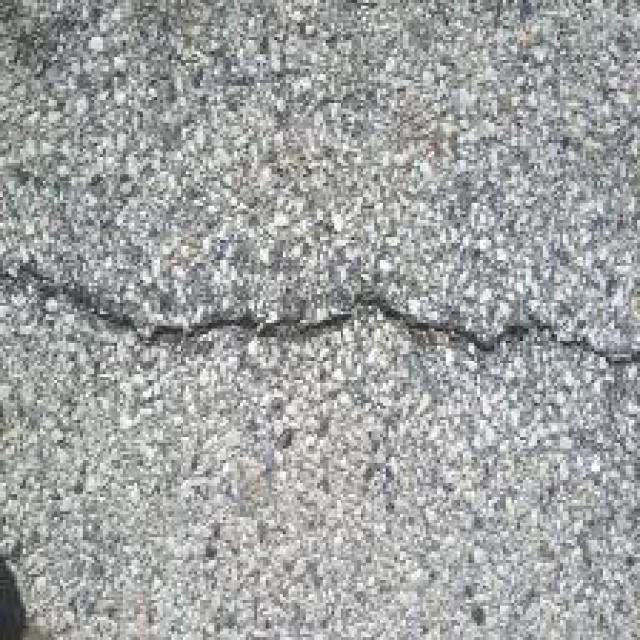crack: (8, 206, 640, 424)
